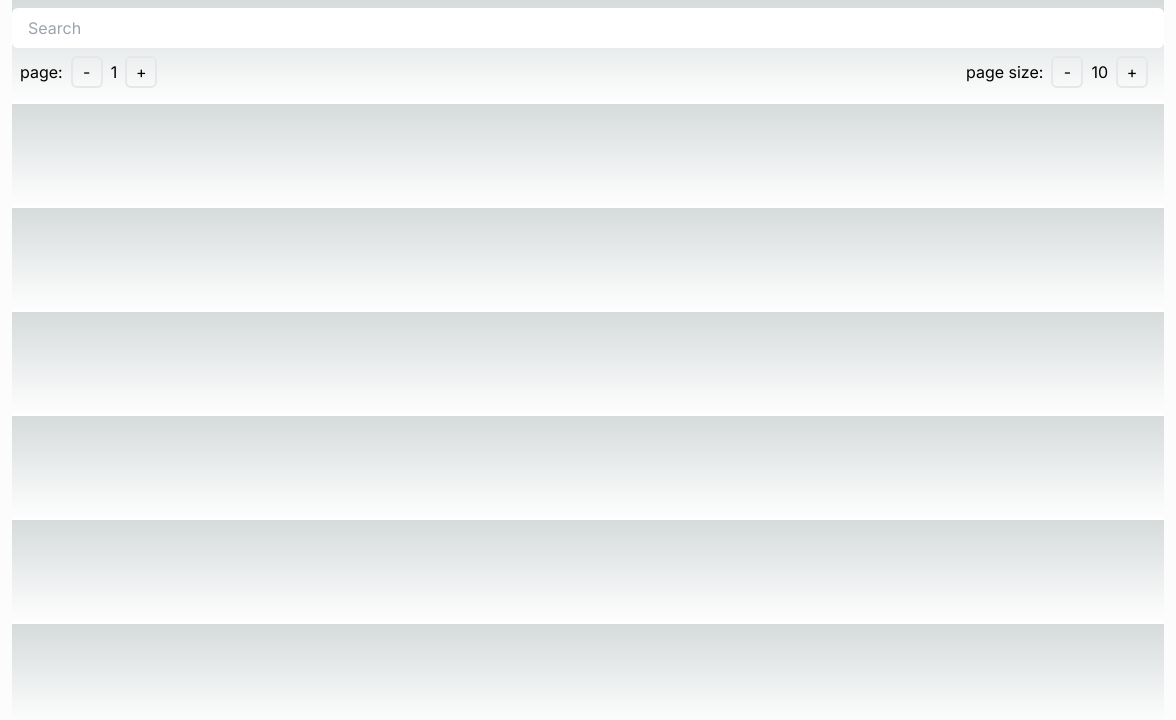
ListHeaderContainer › positive case, page and pageSize should changes when user click the button
This screenshot has width=1176, height=720.
What coordinates should you click on to do the following:
click the button "+" in the row of "page:"
I would click on:
 (141, 72)
Its box is top-left (125, 56), bottom-right (157, 88).
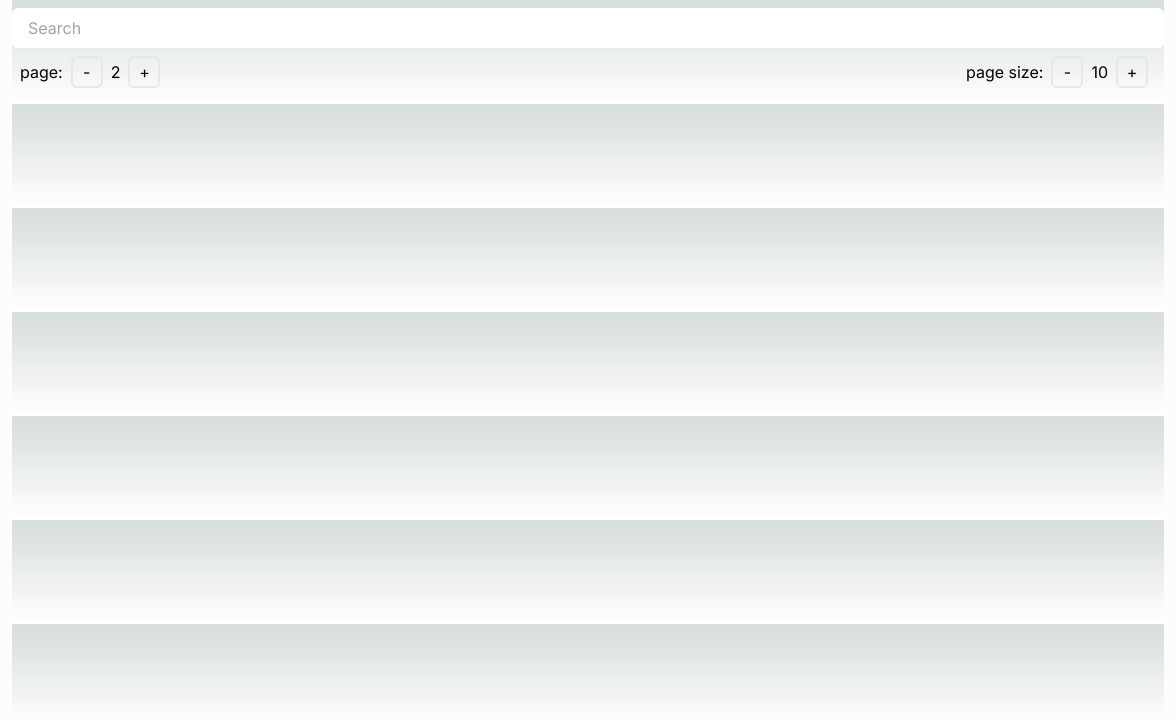
expect the text "2" is shown: met, box top-left (111, 62), bottom-right (120, 82)
What coordinates should you click on to do the following:
click the button "+" next to "10"
I would click on:
 (1132, 72)
Its box is top-left (1116, 56), bottom-right (1148, 88).
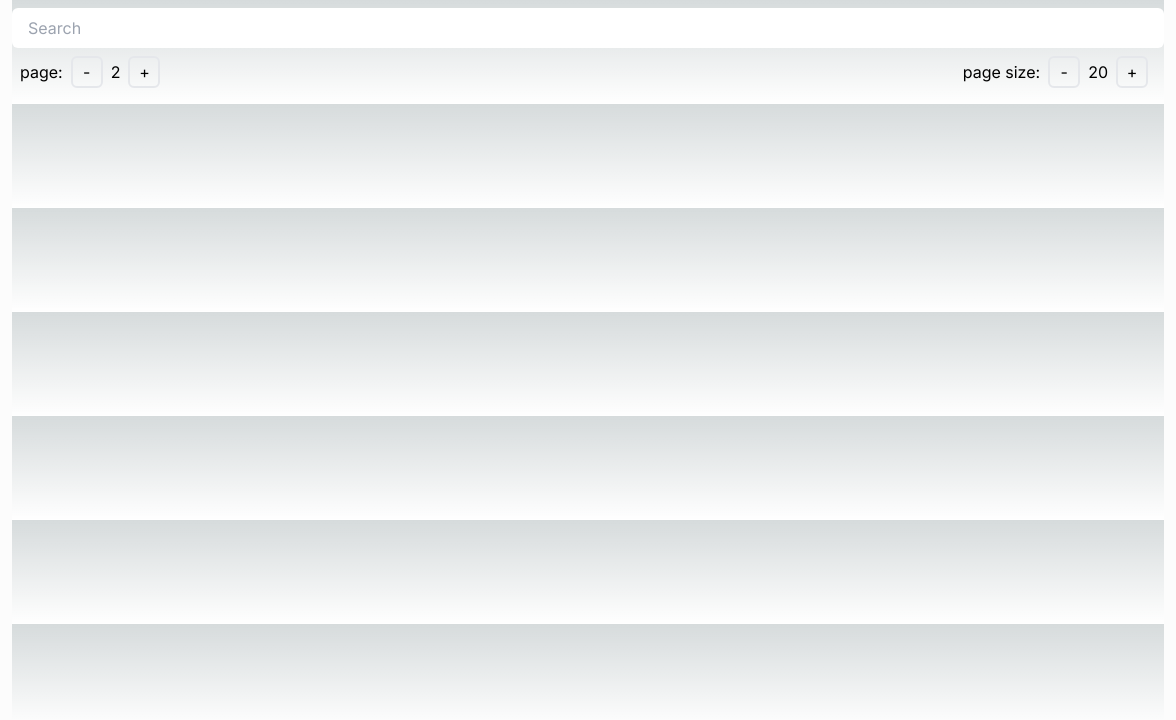
expect the text "20" is shown: met, box top-left (1088, 62), bottom-right (1108, 82)
What coordinates should you click on to do the following:
click the button "-" next to "page:"
I would click on:
 (87, 72)
Its box is top-left (71, 56), bottom-right (103, 88).
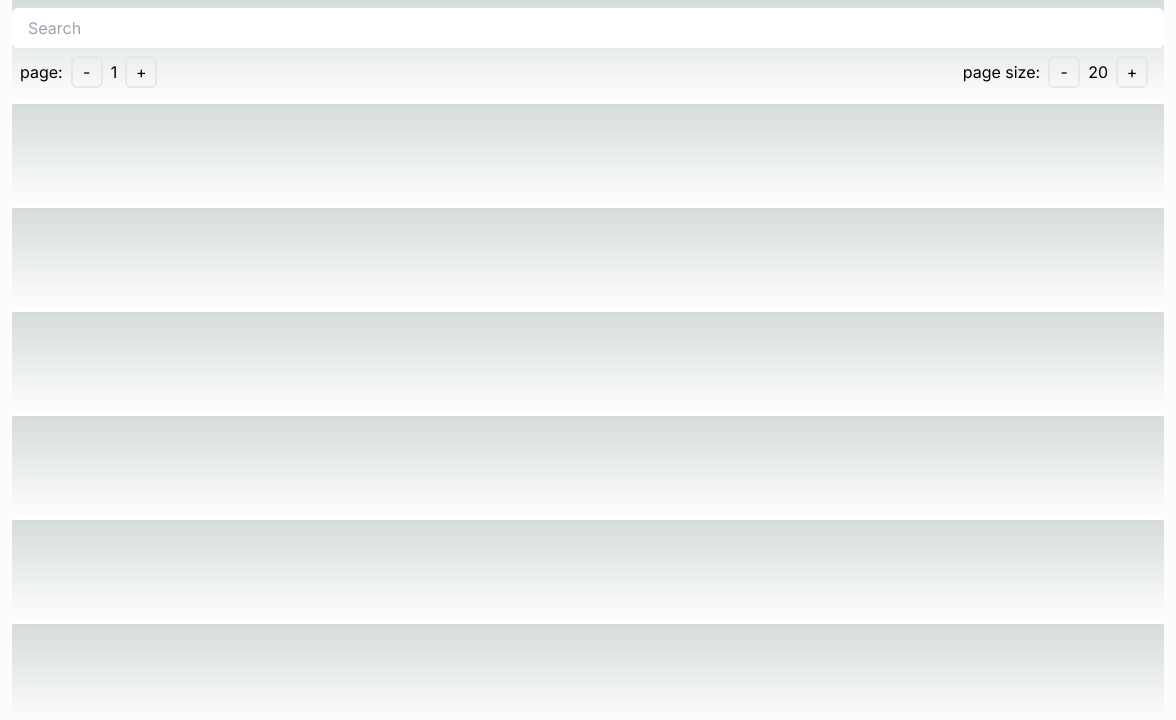
expect the text "1" is shown: met, box top-left (111, 62), bottom-right (117, 82)
What coordinates should you click on to do the following:
click the button "-" next to "page size:"
I would click on:
 (1064, 72)
Its box is top-left (1048, 56), bottom-right (1080, 88).
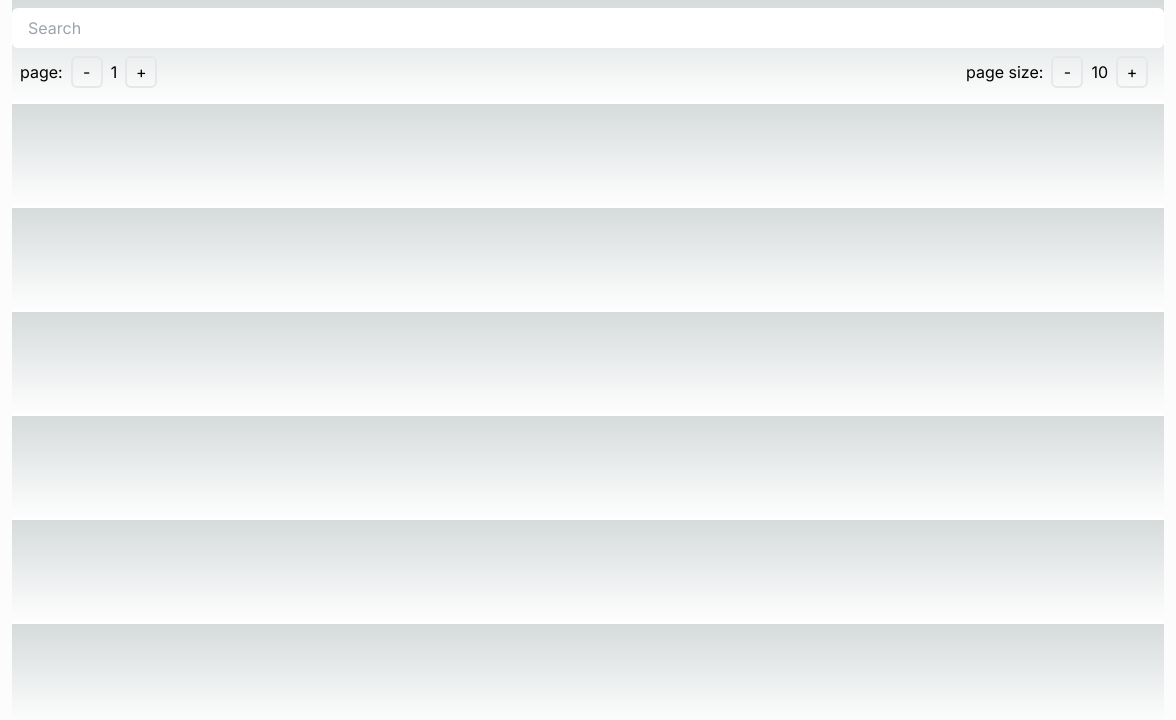
expect the text "10" is shown: met, box top-left (1091, 62), bottom-right (1108, 82)
